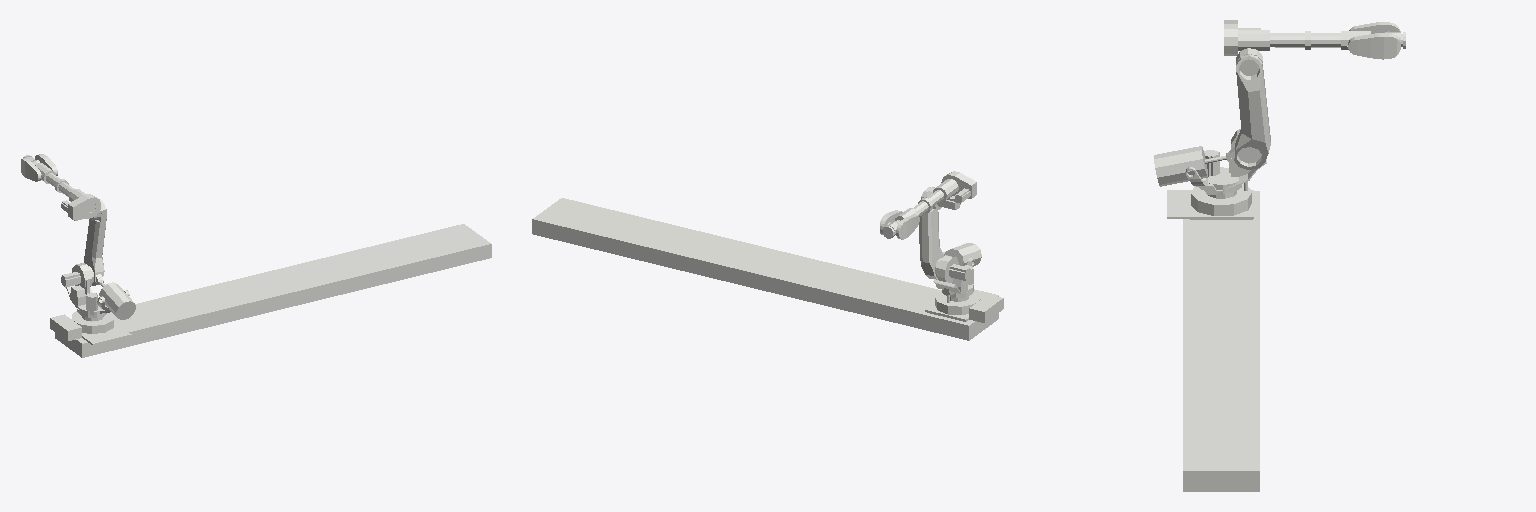
robot.urdf — abb_irb6700_175_305_ibois:
<?xml version="1.0" ?>
<!-- =================================================================================== -->
<!-- |    This document was autogenerated by xacro from /root/catkin_ws/src/abb_irbt6004_670_support/urdf/abb_irb6700_175_305_ibois.xacro | -->
<!-- |    EDITING THIS FILE BY HAND IS NOT RECOMMENDED                                 | -->
<!-- =================================================================================== -->
<robot name="abb_irb6700_175_305_ibois">
    <link name="world" />
    <joint name="world_joint" type="fixed">
        <parent link="world" />
        <child link="rob1_axis" />
        <!--<origin xyz="0 0.0 0.0" rpy="0.0 0.0 3.14159265358979323846" />-->
        <origin rpy="-0.00031264124506612164 -0.00031250271915146547 0.0004431808433690596" xyz="0 0.0 0.0" />
        <!--Update for the base frame of the track -->
    </joint>
    <!-- Conversion were obtained from http://www.e-paint.co.uk/Lab_values.asp
       unless otherwise stated. -->
    <link name="rob1_axis">
        <inertial>
            <mass value="120" />
            <inertia ixx="-4.98000" ixy="-0.00000" ixz="2.70000" iyy="-5.95200" iyz="-0.00000" izz="0.82800" />
            <origin xyz="0 0 0" rpy="0 0 0" />
        </inertial>
        <visual>
            <origin xyz="3.35 0.0 0.0" />
            <geometry>
                <mesh filename="package://abb_irbt6004_670_support/meshes/abb_irbt6004_670/visual/axis.stl" />
            </geometry>
            <material name="">
                <color rgba="0.9254902 0.9254902 0.9058824 1" />
            </material>
        </visual>
        <collision>
            <origin xyz="3.35 0.0 0.0" />
            <geometry>
                <mesh filename="package://abb_irbt6004_670_support/meshes/abb_irbt6004_670/collision/axis.stl" />
            </geometry>
        </collision>
    </link>
    <joint name="rob1_linear_axis_joint" type="prismatic">
        <parent link="rob1_axis" />
        <child link="rob1_pedestal" />
        <origin rpy="0 0 0" xyz="0 0 0" />
        <!--track origin or translation from origin-->
        <axis xyz="1 0 0" />
        <limit effort="100000" lower="0" upper="6.700" velocity="2.618" />
        <!--track limits or length-->
        <dynamics damping="0.2" friction="0" />
    </joint>
    <link name="rob1_pedestal">
        <inertial>
            <origin xyz="0.0 0.0 0.0" rpy="0 0 0" />
            <mass value="120.00000" />
            <inertia ixx="-4.98000" ixy="-0.00000" ixz="2.70000" iyy="-5.95200" iyz="-0.00000" izz="0.82800" />
        </inertial>
        <visual>
            <geometry>
                <mesh filename="package://abb_irbt6004_670_support/meshes/abb_irbt6004_670/visual/pedestal_250.stl" />
            </geometry>
            <material name="">
                <color rgba="0.9254902 0.9254902 0.9058824 1" />
            </material>
        </visual>
        <collision>
            <geometry>
                <mesh filename="package://abb_irbt6004_670_support/meshes/abb_irbt6004_670/collision/pedestal_250.stl" />
            </geometry>
        </collision>
    </link>
    <joint name="rob1_abb_joint" type="fixed">
        <parent link="rob1_pedestal" />
        <child link="rob1_base_link" />
        <origin rpy="0 0 1.57079632679489661923 " xyz="0 0 0 " />
        <!--rotation of robot pedestal 3.14159265358979323846 1.57079632679489661923-->
        <dynamics damping="0.2" friction="0" />
    </joint>
    <!-- Conversion were obtained from http://www.e-paint.co.uk/Lab_values.asp
       unless otherwise stated. -->
    <!-- link list -->
    <link name="rob1_base_link">
        <visual>
            <origin rpy="0 0 0" xyz="0 0 0" />
            <geometry>
                <mesh filename="package://abb_irb6700_support/meshes/irb6700/visual/base_link.stl" />
            </geometry>
            <material name="">
                <color rgba="0.9254902 0.9254902 0.9058824 1" />
            </material>
        </visual>
        <collision>
            <origin rpy="0 0 0" xyz="0 0 0" />
            <geometry>
                <mesh filename="package://abb_irb6700_support/meshes/irb6700/collision/base_link.stl" />
            </geometry>
            <material name="">
                <color rgba="1 1 0 1" />
            </material>
        </collision>
        <inertial>
            <mass value="0.1" />
            <origin xyz="0 0 0" rpy="0 0 0" />
            <inertia ixx="0.03" iyy="0.03" izz="0.03" ixy="0.0" ixz="0.0" iyz="0.0" />
        </inertial>
    </link>
    <link name="rob1_link_1">
        <visual>
            <origin rpy="0 0 0" xyz="0 0 0" />
            <geometry>
                <mesh filename="package://abb_irb6700_support/meshes/irb6700/visual/link_1.stl" />
            </geometry>
            <material name="">
                <color rgba="0.9254902 0.9254902 0.9058824 1" />
            </material>
        </visual>
        <collision>
            <origin rpy="0 0 0" xyz="0 0 0" />
            <geometry>
                <mesh filename="package://abb_irb6700_support/meshes/irb6700/collision/link_1.stl" />
            </geometry>
            <material name="">
                <color rgba="1 1 0 1" />
            </material>
        </collision>
        <inertial>
            <mass value="0.1" />
            <origin xyz="0 0 0" rpy="0 0 0" />
            <inertia ixx="0.03" iyy="0.03" izz="0.03" ixy="0.0" ixz="0.0" iyz="0.0" />
        </inertial>
    </link>
    <link name="rob1_cylinder">
        <visual>
            <origin rpy="0 0 0" xyz="0 0 0" />
            <geometry>
                <mesh filename="package://abb_irb6700_support/meshes/irb6700/visual/cylinder.stl" />
            </geometry>
            <material name="">
                <color rgba="0.9254902 0.9254902 0.9058824 1" />
            </material>
        </visual>
        <collision>
            <origin rpy="0 0 0" xyz="0 0 0" />
            <geometry>
                <mesh filename="package://abb_irb6700_support/meshes/irb6700/collision/cylinder.stl" />
            </geometry>
            <material name="">
                <color rgba="1 1 0 1" />
            </material>
        </collision>
        <inertial>
            <mass value="0.1" />
            <origin xyz="0 0 0" rpy="0 0 0" />
            <inertia ixx="0.03" iyy="0.03" izz="0.03" ixy="0.0" ixz="0.0" iyz="0.0" />
        </inertial>
    </link>
    <link name="rob1_piston">
        <visual>
            <origin rpy="0 0 0" xyz="0 0 0" />
            <geometry>
                <mesh filename="package://abb_irb6700_support/meshes/irb6700/visual/piston.stl" />
            </geometry>
            <material name="">
                <color rgba="0.9254902 0.9254902 0.9058824 1" />
            </material>
        </visual>
        <collision>
            <origin rpy="0 0 0" xyz="0 0 0" />
            <geometry>
                <mesh filename="package://abb_irb6700_support/meshes/irb6700/collision/piston.stl" />
            </geometry>
            <material name="">
                <color rgba="1 1 0 1" />
            </material>
        </collision>
        <inertial>
            <mass value="0.1" />
            <origin xyz="0 0 0" rpy="0 0 0" />
            <inertia ixx="0.03" iyy="0.03" izz="0.03" ixy="0.0" ixz="0.0" iyz="0.0" />
        </inertial>
    </link>
    <link name="rob1_link_2">
        <visual>
            <origin rpy="0 0 0" xyz="0 0 0" />
            <geometry>
                <mesh filename="package://abb_irb6700_support/meshes/irb6700_175_305/visual/link_2.stl" />
            </geometry>
            <material name="">
                <color rgba="0.9254902 0.9254902 0.9058824 1" />
            </material>
        </visual>
        <collision>
            <origin rpy="0 0 0" xyz="0 0 0" />
            <geometry>
                <mesh filename="package://abb_irb6700_support/meshes/irb6700_175_305/collision/link_2.stl" />
            </geometry>
            <material name="">
                <color rgba="1 1 0 1" />
            </material>
        </collision>
        <inertial>
            <mass value="0.1" />
            <origin xyz="0 0 0" rpy="0 0 0" />
            <inertia ixx="0.03" iyy="0.03" izz="0.03" ixy="0.0" ixz="0.0" iyz="0.0" />
        </inertial>
    </link>
    <link name="rob1_link_3">
        <visual>
            <origin rpy="0 0 0" xyz="0 0 0" />
            <geometry>
                <mesh filename="package://abb_irb6700_support/meshes/irb6700_175_305/visual/link_3.stl" />
            </geometry>
            <material name="">
                <color rgba="0.9254902 0.9254902 0.9058824 1" />
            </material>
        </visual>
        <collision>
            <origin rpy="0 0 0" xyz="0 0 0" />
            <geometry>
                <mesh filename="package://abb_irb6700_support/meshes/irb6700_175_305/collision/link_3.stl" />
            </geometry>
            <material name="">
                <color rgba="1 1 0 1" />
            </material>
        </collision>
        <inertial>
            <mass value="0.1" />
            <origin xyz="0 0 0" rpy="0 0 0" />
            <inertia ixx="0.03" iyy="0.03" izz="0.03" ixy="0.0" ixz="0.0" iyz="0.0" />
        </inertial>
    </link>
    <link name="rob1_link_4">
        <visual>
            <origin rpy="0 0 0" xyz="0 0 0" />
            <geometry>
                <mesh filename="package://abb_irb6700_support/meshes/irb6700_175_305/visual/link_4.stl" />
            </geometry>
            <material name="">
                <color rgba="0.9254902 0.9254902 0.9058824 1" />
            </material>
        </visual>
        <collision>
            <origin rpy="0 0 0" xyz="0 0 0" />
            <geometry>
                <mesh filename="package://abb_irb6700_support/meshes/irb6700_175_305/collision/link_4.stl" />
            </geometry>
            <material name="">
                <color rgba="1 1 0 1" />
            </material>
        </collision>
        <inertial>
            <mass value="0.1" />
            <origin xyz="0 0 0" rpy="0 0 0" />
            <inertia ixx="0.03" iyy="0.03" izz="0.03" ixy="0.0" ixz="0.0" iyz="0.0" />
        </inertial>
    </link>
    <link name="rob1_link_5">
        <visual>
            <origin rpy="0 0 0" xyz="0 0 0" />
            <geometry>
                <mesh filename="package://abb_irb6700_support/meshes/irb6700/visual/link_5.stl" />
            </geometry>
            <material name="">
                <color rgba="0.9254902 0.9254902 0.9058824 1" />
            </material>
        </visual>
        <collision>
            <origin rpy="0 0 0" xyz="0 0 0" />
            <geometry>
                <mesh filename="package://abb_irb6700_support/meshes/irb6700/collision/link_5.stl" />
            </geometry>
            <material name="">
                <color rgba="1 1 0 1" />
            </material>
        </collision>
        <inertial>
            <mass value="0.1" />
            <origin xyz="0 0 0" rpy="0 0 0" />
            <inertia ixx="0.03" iyy="0.03" izz="0.03" ixy="0.0" ixz="0.0" iyz="0.0" />
        </inertial>
    </link>
    <link name="rob1_link_6">
        <visual>
            <origin rpy="0 0 0" xyz="0 0 0" />
            <geometry>
                <mesh filename="package://abb_irb6700_support/meshes/irb6700/visual/link_6.stl" />
            </geometry>
            <material name="">
                <color rgba="0.9254902 0.9254902 0.9058824 1" />
            </material>
        </visual>
        <collision>
            <origin rpy="0 0 0" xyz="0 0 0" />
            <geometry>
                <mesh filename="package://abb_irb6700_support/meshes/irb6700/collision/link_6.stl" />
            </geometry>
            <material name="">
                <color rgba="1 1 0 1" />
            </material>
        </collision>
        <inertial>
            <mass value="0.1" />
            <origin xyz="0 0 0" rpy="0 0 0" />
            <inertia ixx="0.03" iyy="0.03" izz="0.03" ixy="0.0" ixz="0.0" iyz="0.0" />
        </inertial>
    </link>
    <joint name="rob1_joint_1" type="revolute">
        <origin rpy="0 0 0" xyz="0 0 0.78" />
        <parent link="rob1_base_link" />
        <child link="rob1_link_1" />
        <axis xyz="0 0 1" />
        <limit effort="0" lower="-2.9670597283903604" upper="2.9670597283903604" velocity="1.9198621771937625" />
    </joint>
    <joint name="rob1_joint_2" type="revolute">
        <origin rpy="0 0 0" xyz="0.32 0 0" />
        <parent link="rob1_link_1" />
        <child link="rob1_link_2" />
        <axis xyz="0 1 0" />
        <limit effort="0" lower="-1.1344640137963142" upper="1.4835298641951802" velocity="1.9198621771937625" />
    </joint>
    <joint name="rob1_joint_3" type="revolute">
        <origin rpy="0 0 0" xyz="0 0 1.135" />
        <parent link="rob1_link_2" />
        <child link="rob1_link_3" />
        <axis xyz="0 1 0" />
        <limit effort="0" lower="-3.141592653589793" upper="1.2217304763960306" velocity="1.9198621771937625" />
    </joint>
    <joint name="rob1_joint_4" type="revolute">
        <origin rpy="0 0 0" xyz="0 0 0.2" />
        <parent link="rob1_link_3" />
        <child link="rob1_link_4" />
        <axis xyz="1 0 0" />
        <limit effort="0" lower="-5.235987755982989" upper="5.235987755982989" velocity="3.3161255787892263" />
    </joint>
    <joint name="rob1_joint_5" type="revolute">
        <origin rpy="0 0 0" xyz="1.593 0 0" />
        <parent link="rob1_link_4" />
        <child link="rob1_link_5" />
        <axis xyz="0 1 0" />
        <limit effort="0" lower="-2.2689280275926285" upper="2.2689280275926285" velocity="2.6179938779914944" />
    </joint>
    <joint name="rob1_joint_6" type="revolute">
        <origin rpy="0 0 0" xyz="0.2 0 0" />
        <parent link="rob1_link_5" />
        <child link="rob1_link_6" />
        <axis xyz="1 0 0" />
        <limit effort="0" lower="-6.283185307179586" upper="6.283185307179586" velocity="3.6651914291880923" />
    </joint>
    <joint name="rob1_cylinder_joint" type="revolute">
        <origin rpy="0 0 0" xyz="-0.349 -0.194 -0.142" />
        <parent link="rob1_link_1" />
        <child link="rob1_cylinder" />
        <axis xyz="0 1 0" />
        <mimic joint="rob1_joint_2" multiplier="-0.25" />
        <limit effort="0" lower="-0.28361600344907856" upper="0.37088246604879505" velocity="100" />
    </joint>
    <joint name="rob1_piston_joint" type="prismatic">
        <origin rpy="0.20897 0 -1.5707963267948966" xyz="0 0 0" />
        <parent link="rob1_cylinder" />
        <child link="rob1_piston" />
        <axis xyz="0 1 0" />
        <mimic joint="rob1_joint_2" multiplier="0.15" />
        <limit effort="0" lower="-0.25" upper="0.25" velocity="100" />
    </joint>
    <!-- ROS-Industrial 'base' frame: base_link to ABB World Coordinates transform -->
    <link name="rob1_base" />
    <joint name="rob1_base_link-base" type="fixed">
        <origin rpy="0 0 0" xyz="0 0 0" />
        <parent link="rob1_base_link" />
        <child link="rob1_base" />
    </joint>
    <!-- ROS-Industrial 'flange' frame: attachment point for EEF models -->
    <link name="rob1_flange" />
    <joint name="rob1_joint_6-flange" type="fixed">
        <origin rpy="0 0 0" xyz="0 0 0" />
        <parent link="rob1_link_6" />
        <child link="rob1_flange" />
    </joint>
    <!-- ROS-Industrial 'tool0' frame: all-zeros tool frame -->
    <link name="rob1_tool0" />
    <joint name="rob1_link_6-tool0" type="fixed">
        <origin rpy="0 1.5707963267948966 0" xyz="0 0 0" />
        <parent link="rob1_flange" />
        <child link="rob1_tool0" />
    </joint>
    <!--for multiple robots-->
    <transmission name="trans_rob1_linear_axis_joint">
        <type>transmission_interface/SimpleTransmission</type>
        <joint name="rob1_linear_axis_joint">
            <hardwareInterface>hardware_interface/EffortJointInterface</hardwareInterface>
        </joint>
        <actuator name="rob1_linear_axis_joint_motor">
            <hardwareInterface>hardware_interface/EffortJointInterface</hardwareInterface>
            <mechanicalReduction>1</mechanicalReduction>
        </actuator>
    </transmission>
    <transmission name="trans_rob1_joint_1">
        <type>transmission_interface/SimpleTransmission</type>
        <joint name="rob1_joint_1">
            <hardwareInterface>hardware_interface/EffortJointInterface</hardwareInterface>
        </joint>
        <actuator name="rob1_joint_1_motor">
            <hardwareInterface>hardware_interface/EffortJointInterface</hardwareInterface>
            <mechanicalReduction>1</mechanicalReduction>
        </actuator>
    </transmission>
    <transmission name="trans_rob1_joint_2">
        <type>transmission_interface/SimpleTransmission</type>
        <joint name="rob1_joint_2">
            <hardwareInterface>hardware_interface/EffortJointInterface</hardwareInterface>
        </joint>
        <actuator name="rob1_joint_2_motor">
            <hardwareInterface>hardware_interface/EffortJointInterface</hardwareInterface>
            <mechanicalReduction>1</mechanicalReduction>
        </actuator>
    </transmission>
    <transmission name="trans_rob1_joint_3">
        <type>transmission_interface/SimpleTransmission</type>
        <joint name="rob1_joint_3">
            <hardwareInterface>hardware_interface/EffortJointInterface</hardwareInterface>
        </joint>
        <actuator name="rob1_joint_3_motor">
            <hardwareInterface>hardware_interface/EffortJointInterface</hardwareInterface>
            <mechanicalReduction>1</mechanicalReduction>
        </actuator>
    </transmission>
    <transmission name="trans_rob1_joint_4">
        <type>transmission_interface/SimpleTransmission</type>
        <joint name="rob1_joint_4">
            <hardwareInterface>hardware_interface/EffortJointInterface</hardwareInterface>
        </joint>
        <actuator name="rob1_joint_4_motor">
            <hardwareInterface>hardware_interface/EffortJointInterface</hardwareInterface>
            <mechanicalReduction>1</mechanicalReduction>
        </actuator>
    </transmission>
    <transmission name="trans_rob1_joint_5">
        <type>transmission_interface/SimpleTransmission</type>
        <joint name="rob1_joint_5">
            <hardwareInterface>hardware_interface/EffortJointInterface</hardwareInterface>
        </joint>
        <actuator name="rob1_joint_5_motor">
            <hardwareInterface>hardware_interface/EffortJointInterface</hardwareInterface>
            <mechanicalReduction>1</mechanicalReduction>
        </actuator>
    </transmission>
    <transmission name="trans_rob1_joint_6">
        <type>transmission_interface/SimpleTransmission</type>
        <joint name="rob1_joint_6">
            <hardwareInterface>hardware_interface/EffortJointInterface</hardwareInterface>
        </joint>
        <actuator name="rob1_joint_6_motor">
            <hardwareInterface>hardware_interface/EffortJointInterface</hardwareInterface>
            <mechanicalReduction>1</mechanicalReduction>
        </actuator>
    </transmission>
    <transmission name="trans_rob1_cylinder_joint">
        <type>transmission_interface/SimpleTransmission</type>
        <joint name="rob1_cylinder_joint">
            <hardwareInterface>hardware_interface/EffortJointInterface</hardwareInterface>
        </joint>
        <actuator name="rob1_cylinder_joint_motor">
            <hardwareInterface>hardware_interface/EffortJointInterface</hardwareInterface>
            <mechanicalReduction>1</mechanicalReduction>
        </actuator>
    </transmission>
    <transmission name="trans_rob1_piston_joint">
        <type>transmission_interface/SimpleTransmission</type>
        <joint name="rob1_piston_joint">
            <hardwareInterface>hardware_interface/EffortJointInterface</hardwareInterface>
        </joint>
        <actuator name="rob1_piston_joint_motor">
            <hardwareInterface>hardware_interface/EffortJointInterface</hardwareInterface>
            <mechanicalReduction>1</mechanicalReduction>
        </actuator>
    </transmission>
    <gazebo>
        <plugin name="gazebo_ros_control">
            <robotNamespace>/</robotNamespace>
        </plugin>
    </gazebo>
</robot>

--- Facts derived from the render (not from the file) ---
3 views of the same robot in one strip: view 1: azimuth 30°, elevation 25°; view 2: azimuth 150°, elevation 25°; view 3: azimuth 270°, elevation 25° (orthographic).
Model abb_irb6700_175_305_ibois with 15 links and 14 joints (7 revolute, 2 prismatic, 5 fixed), rooted at world, posed all joints at 0.
Visible links, largest first — view 1: rob1_axis, rob1_base_link, rob1_link_1, rob1_link_2, rob1_link_4, rob1_link_3, rob1_cylinder; view 2: rob1_axis, rob1_base_link, rob1_link_1, rob1_link_2, rob1_link_3, rob1_link_4; view 3: rob1_axis, rob1_link_2, rob1_link_4, rob1_base_link, rob1_link_1, rob1_link_3, rob1_cylinder.
Boxes of the visible links, x1=… form: rob1_axis: x1=55, y1=224, x2=491, y2=357; rob1_base_link: x1=50, y1=311, x2=131, y2=345; rob1_link_1: x1=61, y1=263, x2=129, y2=317; rob1_link_2: x1=84, y1=199, x2=106, y2=285; rob1_link_4: x1=21, y1=154, x2=95, y2=211; rob1_link_3: x1=61, y1=189, x2=102, y2=220; rob1_cylinder: x1=99, y1=282, x2=135, y2=319; rob1_axis: x1=532, y1=198, x2=998, y2=340; rob1_base_link: x1=925, y1=289, x2=1003, y2=322; rob1_link_1: x1=933, y1=252, x2=974, y2=302; rob1_link_2: x1=919, y1=187, x2=943, y2=279; rob1_link_3: x1=926, y1=171, x2=976, y2=209; rob1_link_4: x1=880, y1=190, x2=943, y2=239; rob1_axis: x1=1183, y1=191, x2=1259, y2=491; rob1_link_2: x1=1226, y1=54, x2=1270, y2=169; rob1_link_4: x1=1270, y1=22, x2=1400, y2=59; rob1_base_link: x1=1167, y1=183, x2=1253, y2=219; rob1_link_1: x1=1186, y1=129, x2=1266, y2=194; rob1_link_3: x1=1224, y1=20, x2=1269, y2=75; rob1_cylinder: x1=1154, y1=146, x2=1207, y2=186.
Bounding box of the posed robot: 7.78 × 2.89 × 2.54 m (x, y, z).
10 mesh visuals loaded from 11 distinct referenced files (10 binary STL); not drawn: 1 (reference not matched to a file when rendering).
